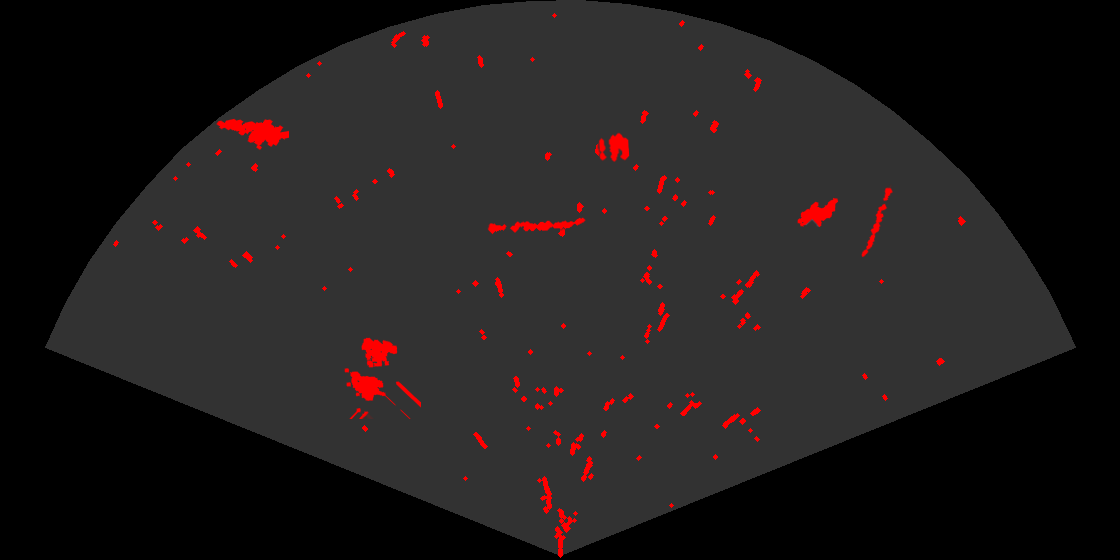AUV: (796, 196, 840, 229)
ball: (597, 131, 631, 164)
cage: (343, 336, 421, 419)
chain: (860, 184, 894, 259), (487, 216, 587, 236)
frogman: (215, 117, 289, 152)
